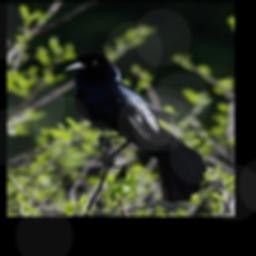Crow: (63, 50, 206, 201)
